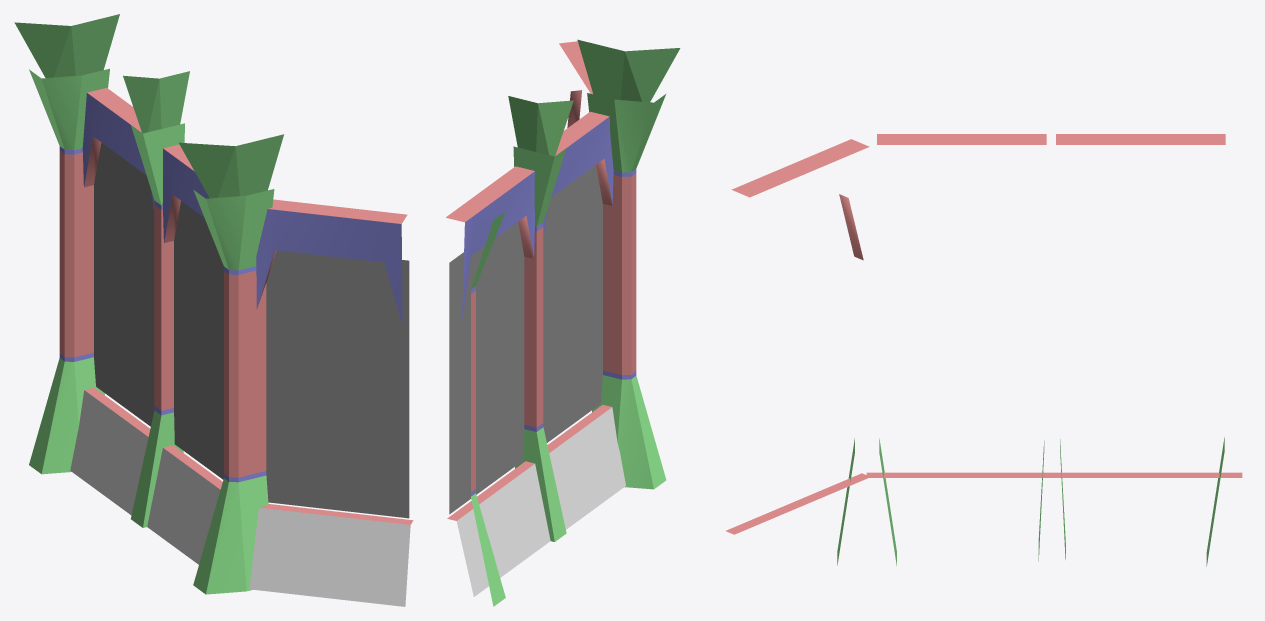
Rendered from interior_B_delf_store_28.gltf.
3 views of the same model, side by side, from view 1: azimuth 30°, elevation 25°; view 2: azimuth 150°, elevation 25°; view 3: azimuth 270°, elevation 25° (orthographic). The views are drawn at different scales.
Visible parts, largest first — view 1: interior_B_delf_store_28; view 2: interior_B_delf_store_28; view 3: interior_B_delf_store_28.
Part boxes in pixels (<box>): interior_B_delf_store_28: <box>14,14,413,606</box>; interior_B_delf_store_28: <box>446,39,680,606</box>; interior_B_delf_store_28: <box>726,134,1242,566</box>.
Size of the model in its own units: 0.7199 by 1.76 by 1.7.
